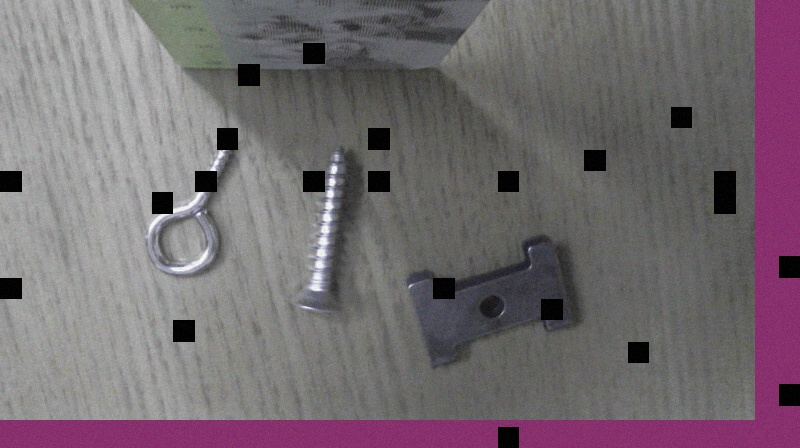O001: (140, 131, 238, 278)
O002: (402, 234, 581, 368)
S001: (287, 142, 351, 312)
